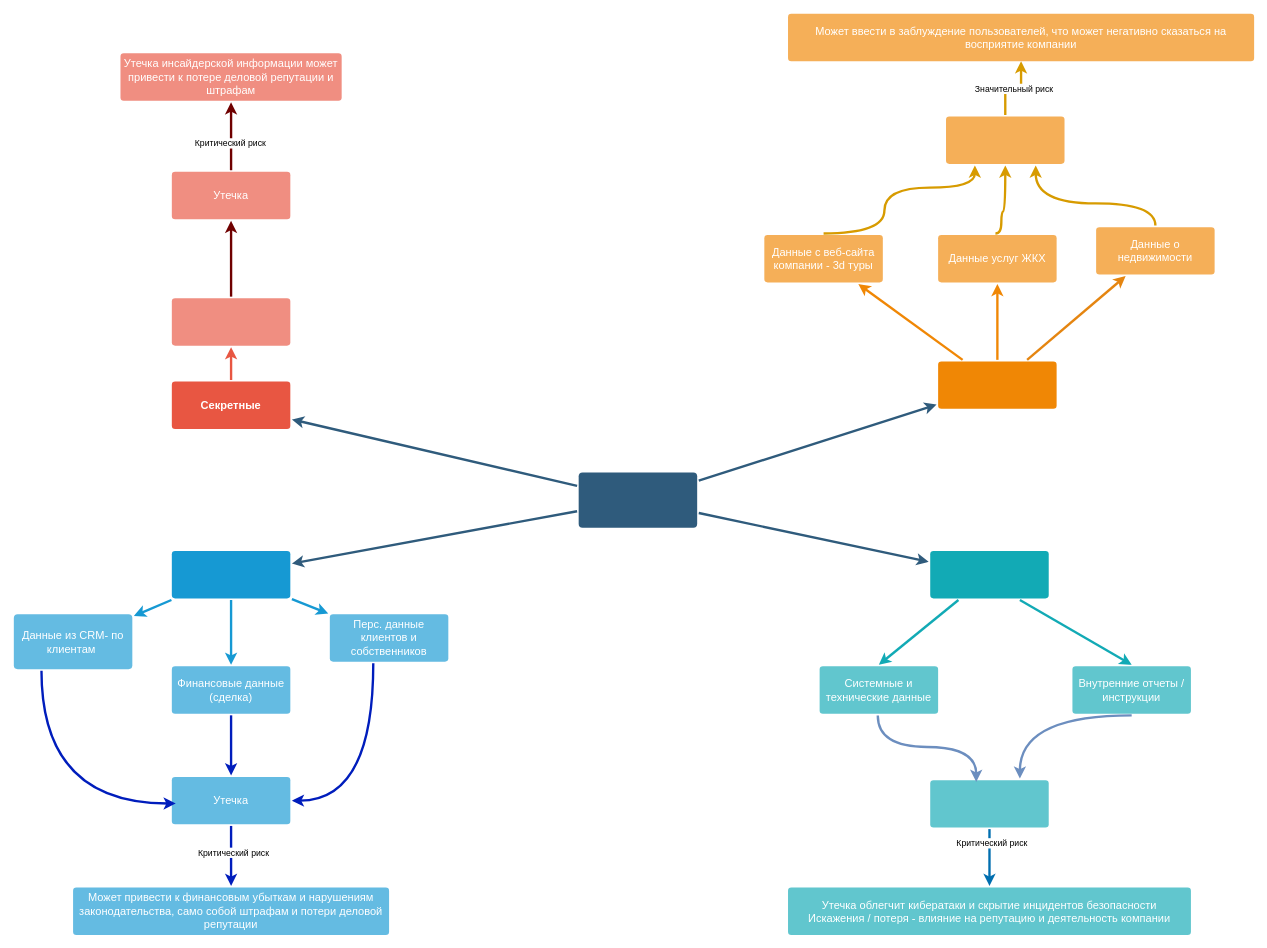
Image size: 1267x948. Some labels were removed from this diagram. Each missing label, with the centre of its shape:
Безопасность данных: (x=637, y=499)
Внутренние: (x=989, y=574)
Данные о партнерских интеграциях: (x=230, y=321)
Конфиденциальные: (x=230, y=574)
Потеря Искажение: (x=1005, y=140)
Публичные: (x=997, y=384)
Утечка / искажение / потеря данных: (x=989, y=803)
